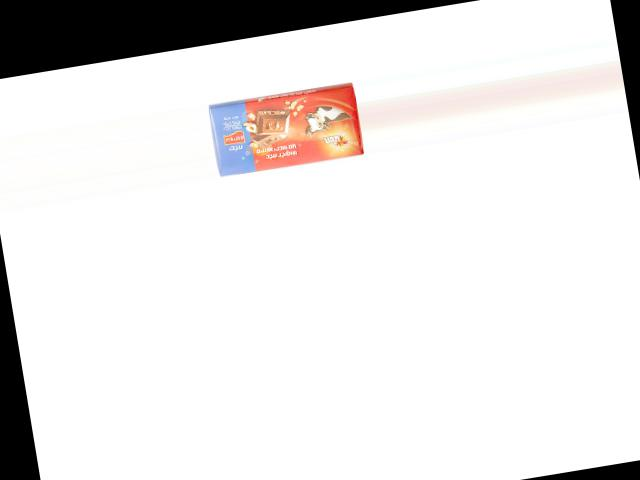chocolate: (208, 75, 364, 176)
